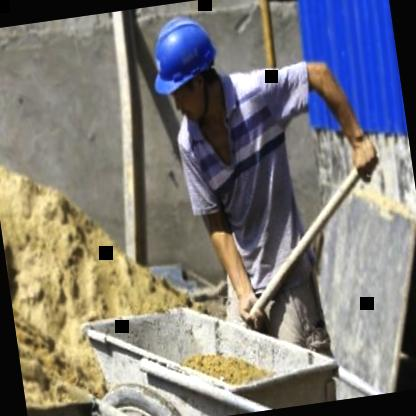helmet: (142, 8, 230, 130)
